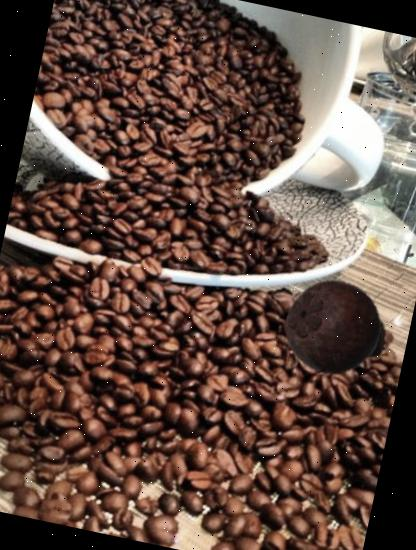Mangostan: (274, 266, 398, 391)
